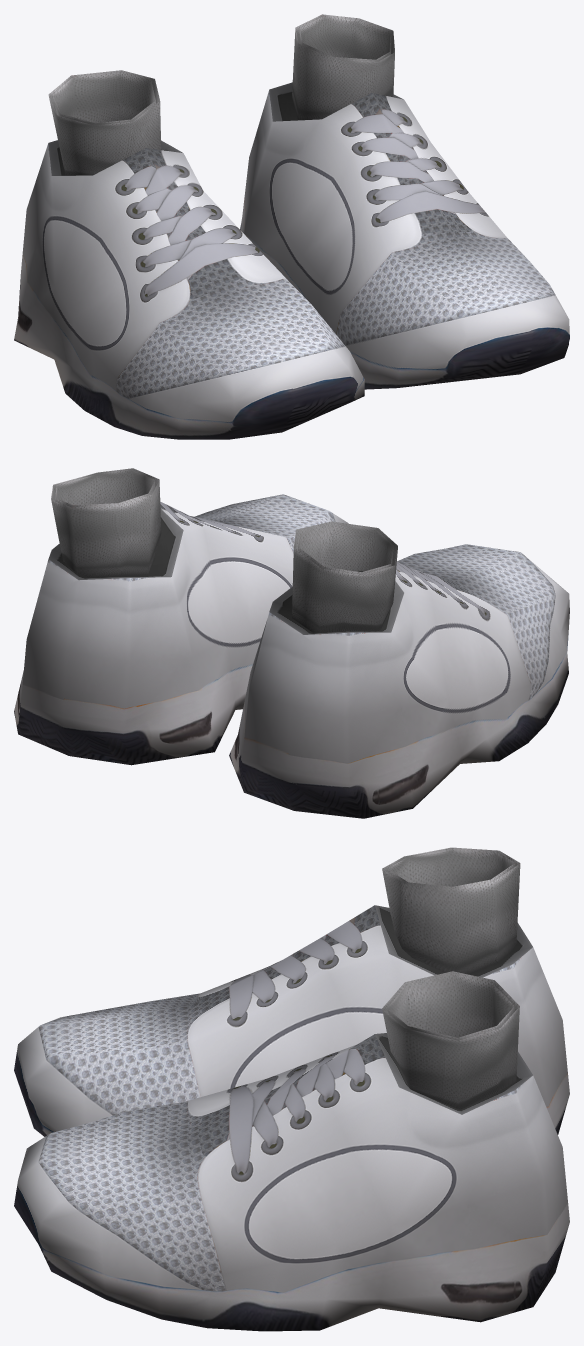
The model's file is TPFeetB.fbx.
The picture shows the model from 3 angles, top to bottom: view 1: azimuth 30°, elevation 25°; view 2: azimuth 150°, elevation 25°; view 3: azimuth 270°, elevation 25°; orthographic projection. The views are drawn at different scales.
Parts seen in each view (by area): view 1: TPFeetB; view 2: TPFeetB; view 3: TPFeetB.
Part boxes in pixels (left/top/right/bottom): TPFeetB: left=14, top=14, right=569, bottom=439; TPFeetB: left=14, top=468, right=569, bottom=818; TPFeetB: left=14, top=847, right=569, bottom=1331.
Size of the model in its own units: 29.2 by 15.04 by 27.14.
Materials: 1 (1 with a texture image).
